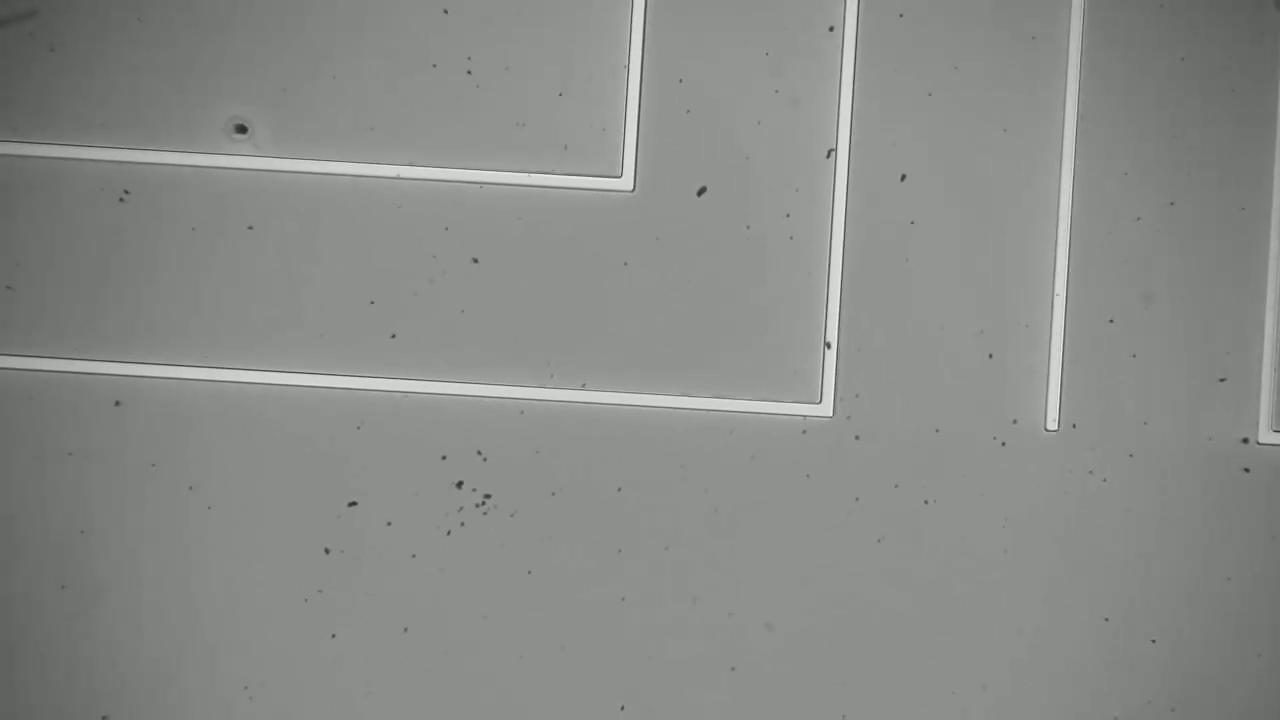stains_enbedded: (815, 332, 846, 356)
